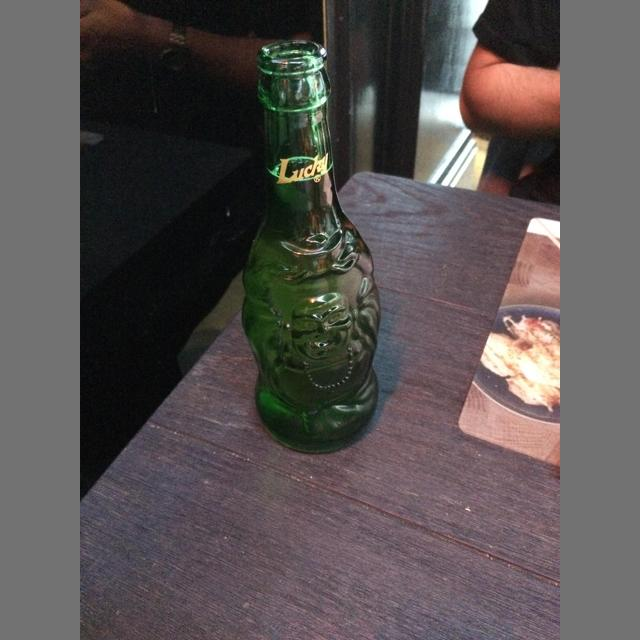litter: (241, 40, 381, 453)
